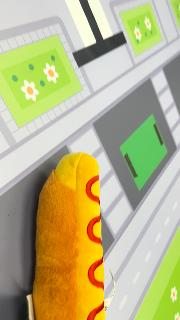hotdog: (32, 152, 106, 318)
